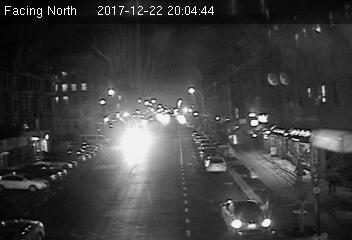car: (216, 197, 272, 235), (204, 155, 226, 171)
